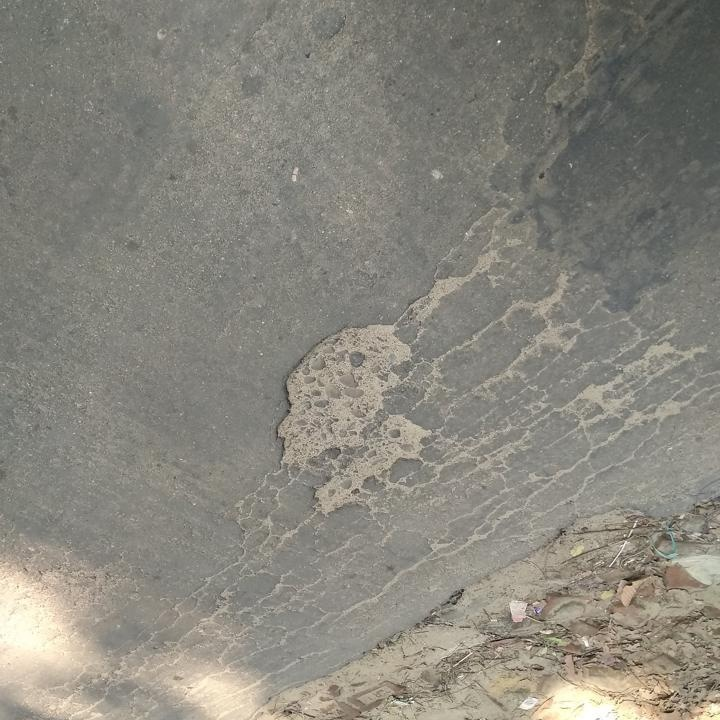pothole: (267, 322, 436, 518)
